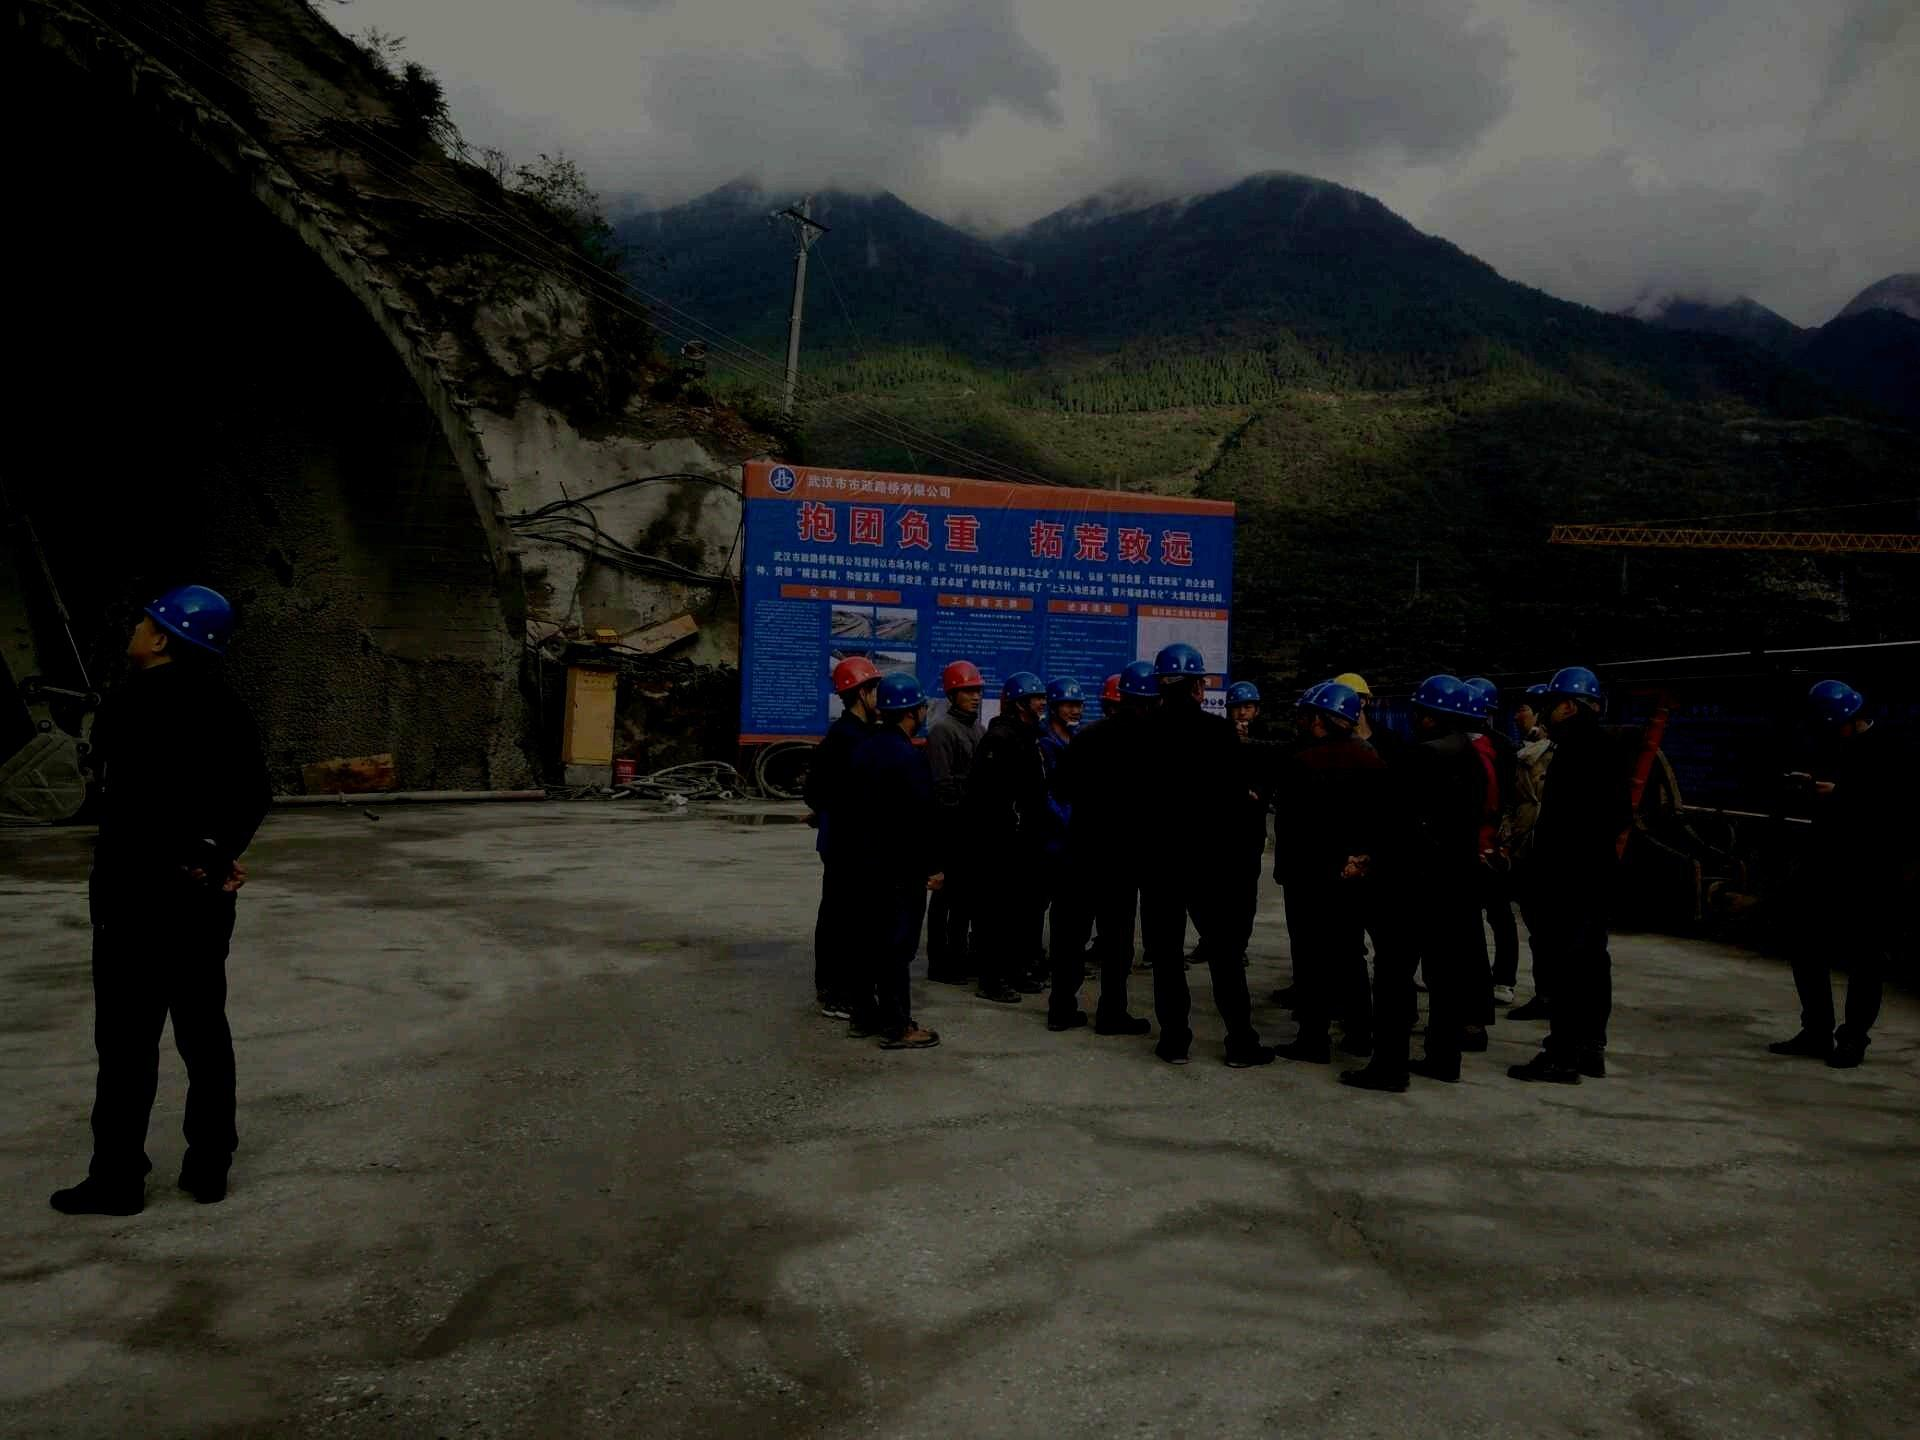helmet: (125, 584, 233, 661), (1407, 675, 1473, 738), (1544, 666, 1603, 731), (1150, 641, 1208, 708), (1807, 681, 1863, 749), (875, 672, 928, 734), (1308, 684, 1362, 740), (1116, 659, 1161, 723), (831, 656, 881, 712), (1001, 672, 1048, 723), (942, 659, 986, 714), (1045, 675, 1087, 728), (1512, 684, 1548, 735), (1333, 672, 1373, 718), (1466, 678, 1500, 728), (1225, 681, 1261, 725), (1463, 682, 1491, 735), (1098, 673, 1122, 720)
